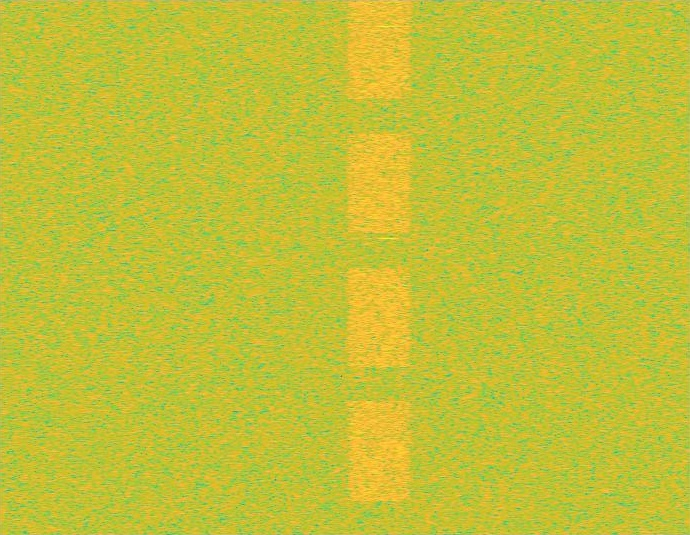5G: (345, 0, 414, 534)
Radar: (381, 0, 395, 534)
